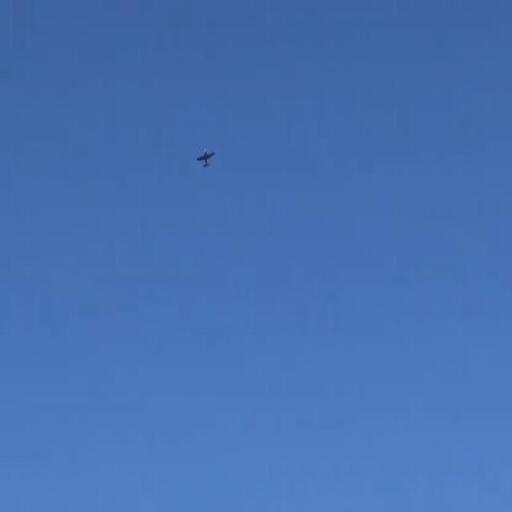aircraft: (194, 148, 216, 167)
